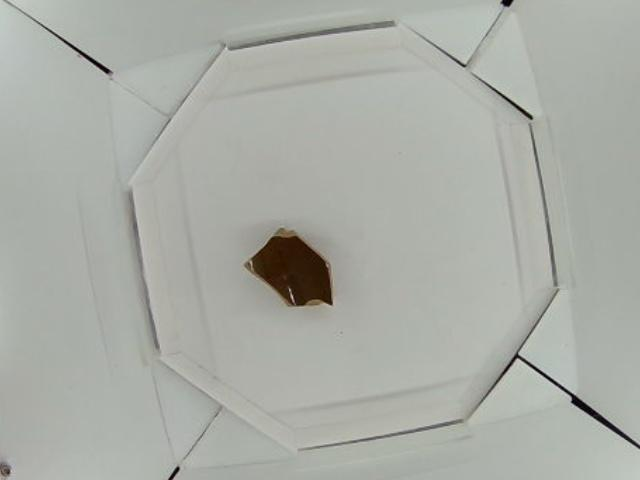China: (244, 226, 335, 310)
